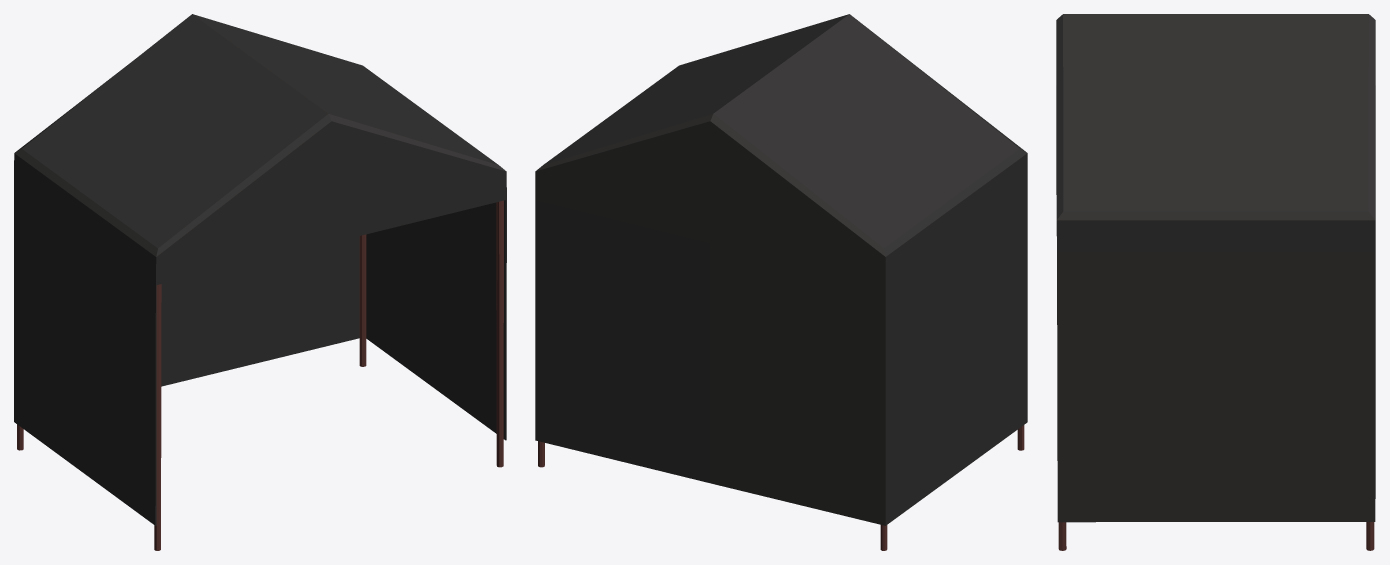
File: Carpa04.fbx
3 renders of one model, left to right at view 1: azimuth 30°, elevation 25°; view 2: azimuth 150°, elevation 25°; view 3: azimuth 270°, elevation 25°, orthographic. The views are drawn at different scales.
Parts seen in each view (by area): view 1: Carpa4.001; view 2: Carpa4.001; view 3: Carpa4.001.
Part boxes in pixels (x1,y1,x2,y2): Carpa4.001: [14, 14, 506, 550]; Carpa4.001: [535, 14, 1027, 550]; Carpa4.001: [1056, 14, 1375, 550].
Size of the model in its own units: 308 by 330 by 216.
